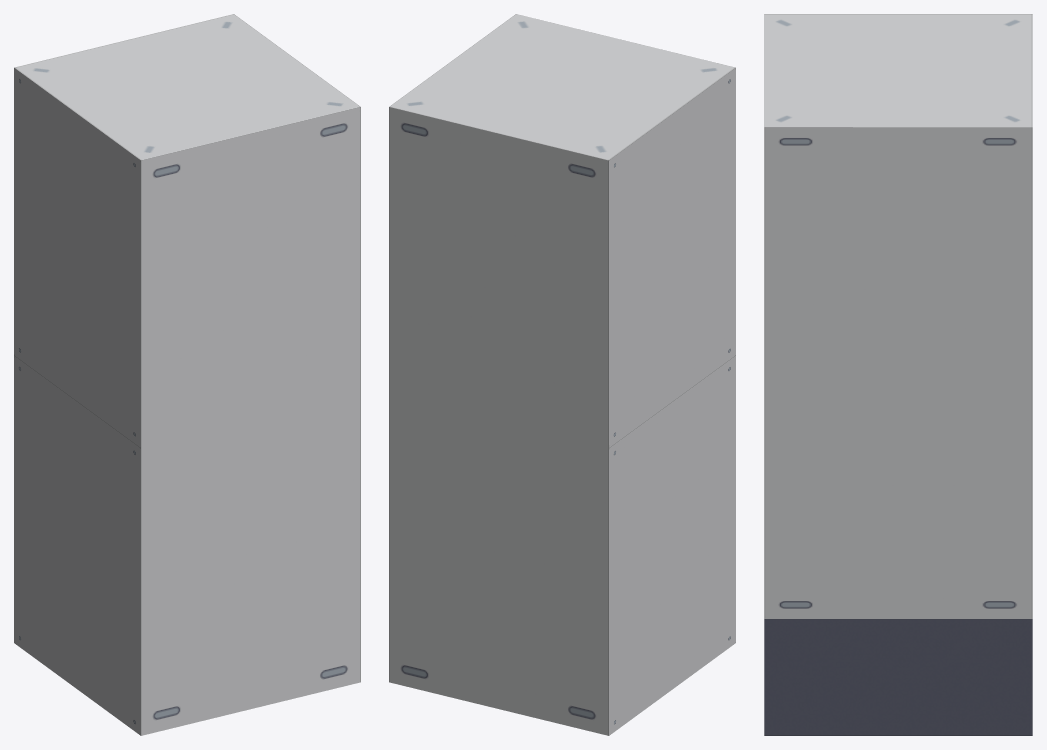
Rendered from Wall_Coin_Simple_01.FBX.
The picture shows the model from 3 angles, left to right: view 1: azimuth 30°, elevation 25°; view 2: azimuth 150°, elevation 25°; view 3: azimuth 270°, elevation 25°; orthographic projection. The views are drawn at different scales.
Visible parts, largest first — view 1: Wall_Coin_Simple_01; view 2: Wall_Coin_Simple_01; view 3: Wall_Coin_Simple_01.
Boxes of the visible parts, box(x1,y1,x2,y2) form: Wall_Coin_Simple_01: box(14, 14, 360, 735); Wall_Coin_Simple_01: box(389, 14, 735, 735); Wall_Coin_Simple_01: box(764, 14, 1032, 735).
Bounding box in the file's own units: 2 × 5 × 2.
